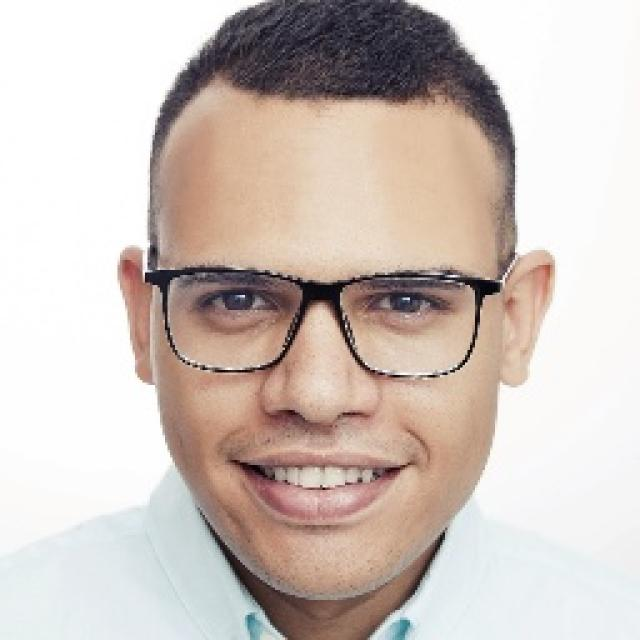glasses: (136, 243, 519, 388)
